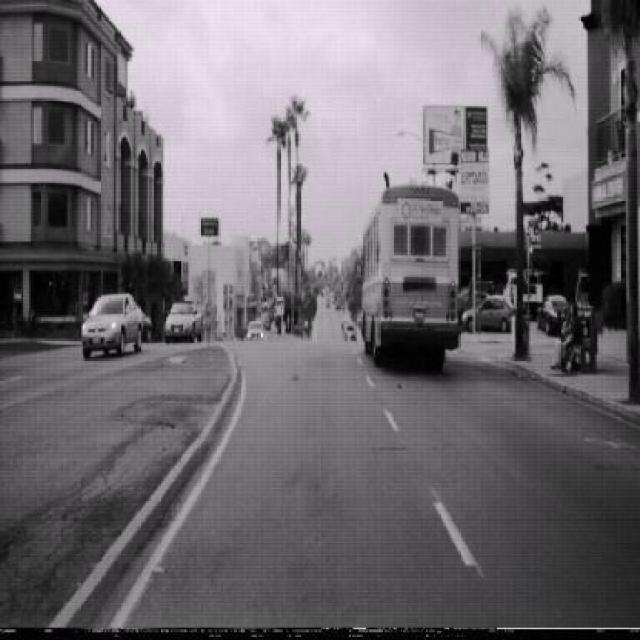keepRight: (276, 294, 284, 316)
